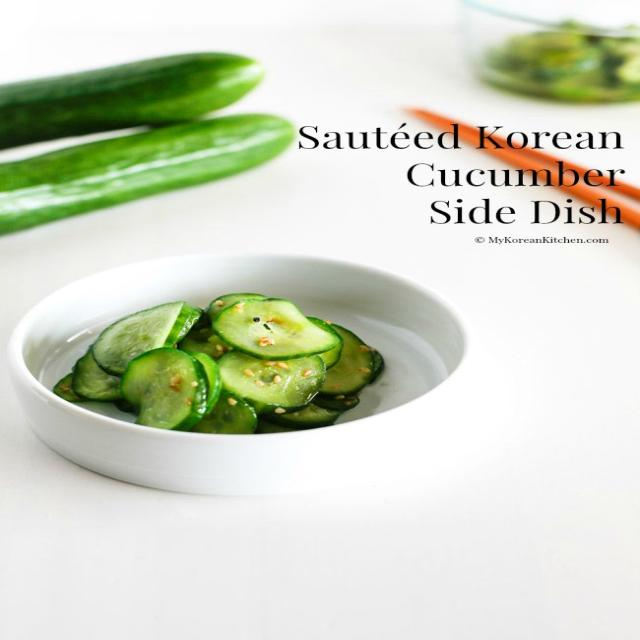Pickle: (0, 115, 294, 233), (0, 52, 264, 147), (210, 294, 341, 361), (92, 302, 195, 374), (120, 348, 208, 430), (218, 350, 326, 412), (321, 324, 382, 395)
